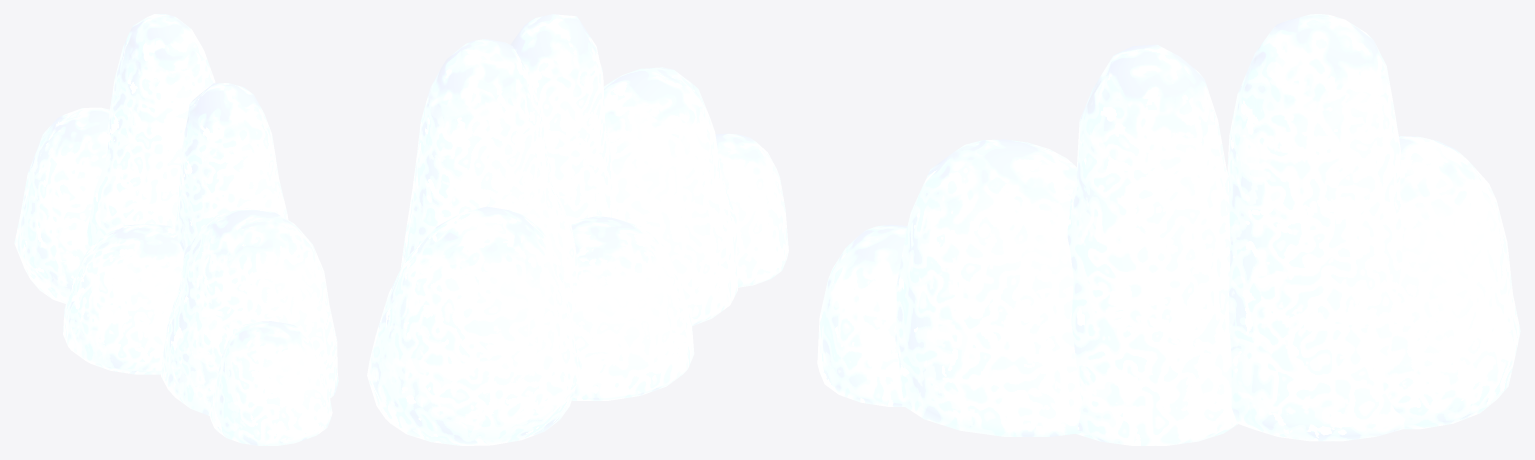
File: 085_round_stones.glb
3 renders of one model, left to right at view 1: azimuth 30°, elevation 25°; view 2: azimuth 150°, elevation 25°; view 3: azimuth 270°, elevation 25°, orthographic. The views are drawn at different scales.
Visible parts, largest first — view 1: stone_5, stone_2, stone_4, stone_6, stone_3, stone_1; view 2: stone_1, stone_2, stone_5, stone_4, stone_3, stone_6; view 3: stone_2, stone_3, stone_5, stone_1, stone_6.
Boxes of the visible parts, x1,y1,x2,y2 form: stone_5: (161,208,338,415); stone_2: (86,14,215,248); stone_4: (63,224,184,374); stone_6: (209,321,332,445); stone_3: (175,83,288,252); stone_1: (14,107,109,303); stone_1: (367,206,580,445); stone_2: (400,39,578,320); stone_5: (603,67,737,325); stone_4: (571,216,694,400); stone_3: (510,14,612,222); stone_6: (715,133,788,287); stone_2: (1227,14,1406,441); stone_3: (1067,44,1237,445); stone_5: (895,139,1082,436); stone_1: (1383,136,1520,429); stone_6: (817,224,907,406).
Bounding box in the file's own units: 0.75 × 1.08 × 1.78.
1 material, 1 textured.
